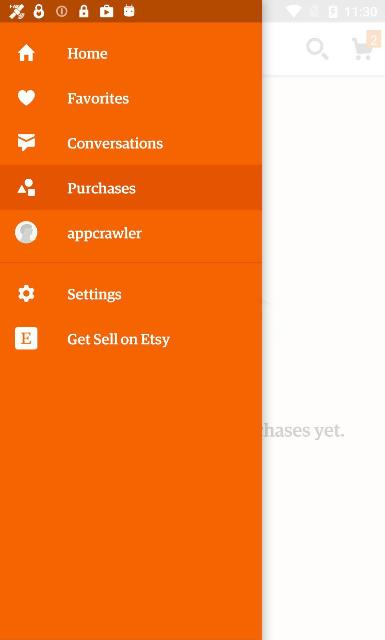Drawer: (0, 22, 262, 640)
Icon: (14, 326, 38, 349), (14, 220, 38, 243), (17, 178, 35, 196), (17, 284, 34, 302), (17, 134, 34, 152), (17, 44, 34, 62), (17, 90, 34, 106)
List: (0, 23, 262, 375)
Text: (68, 332, 170, 348), (67, 226, 142, 242), (67, 137, 163, 149), (67, 182, 136, 194), (67, 92, 129, 105), (67, 288, 121, 302), (68, 48, 108, 58)
UpperTaskBar: (0, 0, 384, 22)
